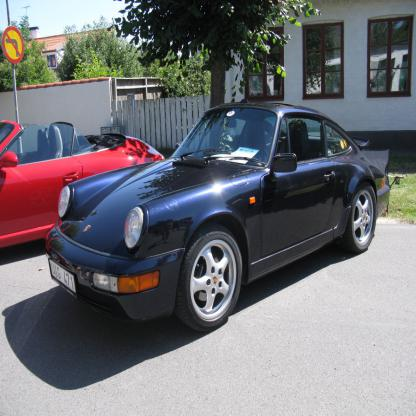Car: (49, 104, 392, 340), (0, 115, 165, 251)
